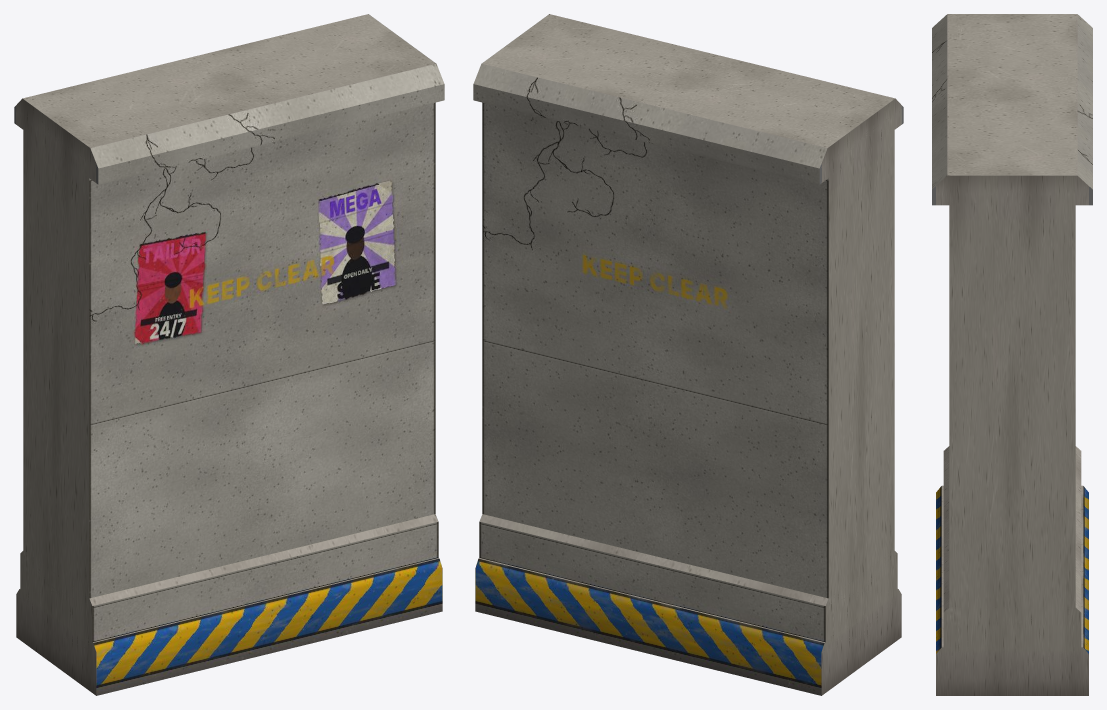
Rendered from env_wall_c-DJ5ayVcE.glb.
The picture shows the model from 3 angles, left to right: view 1: azimuth 30°, elevation 25°; view 2: azimuth 150°, elevation 25°; view 3: azimuth 270°, elevation 25°; orthographic projection. The views are drawn at different scales.
Visible parts, largest first — view 1: env_wall_c_body; view 2: env_wall_c_body; view 3: env_wall_c_body.
Part boxes in pixels (left/top/right/bottom): env_wall_c_body: left=14, top=14, right=444, bottom=695; env_wall_c_body: left=473, top=14, right=903, bottom=695; env_wall_c_body: left=932, top=14, right=1092, bottom=695.
Size of the model in its own units: 1 by 1.5 by 0.42.
1 material, 1 textured.
